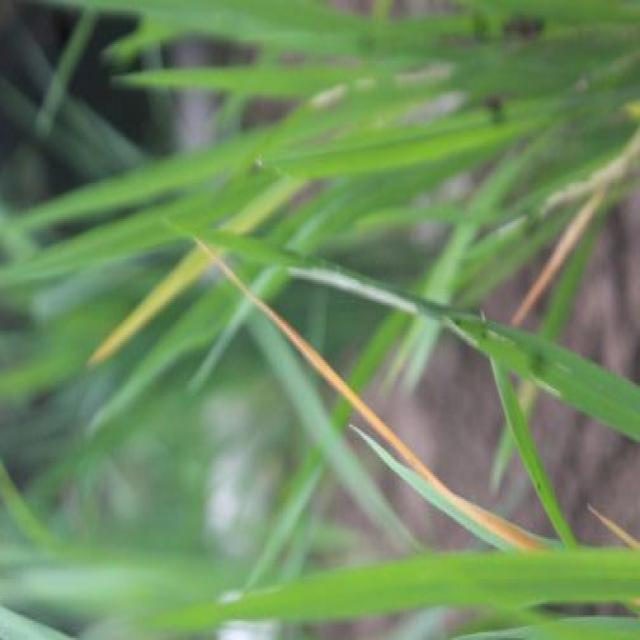Tungro: (200, 238, 500, 543)
